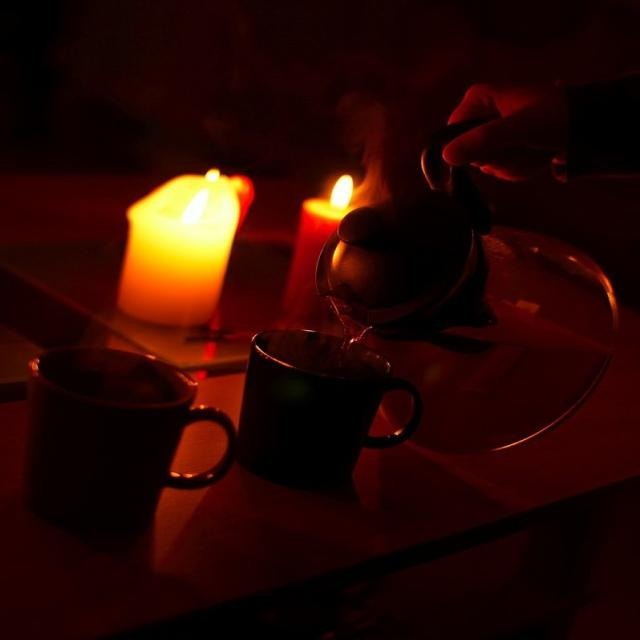Cup: (36, 330, 224, 532), (235, 316, 412, 484)
Table: (0, 181, 640, 640)
